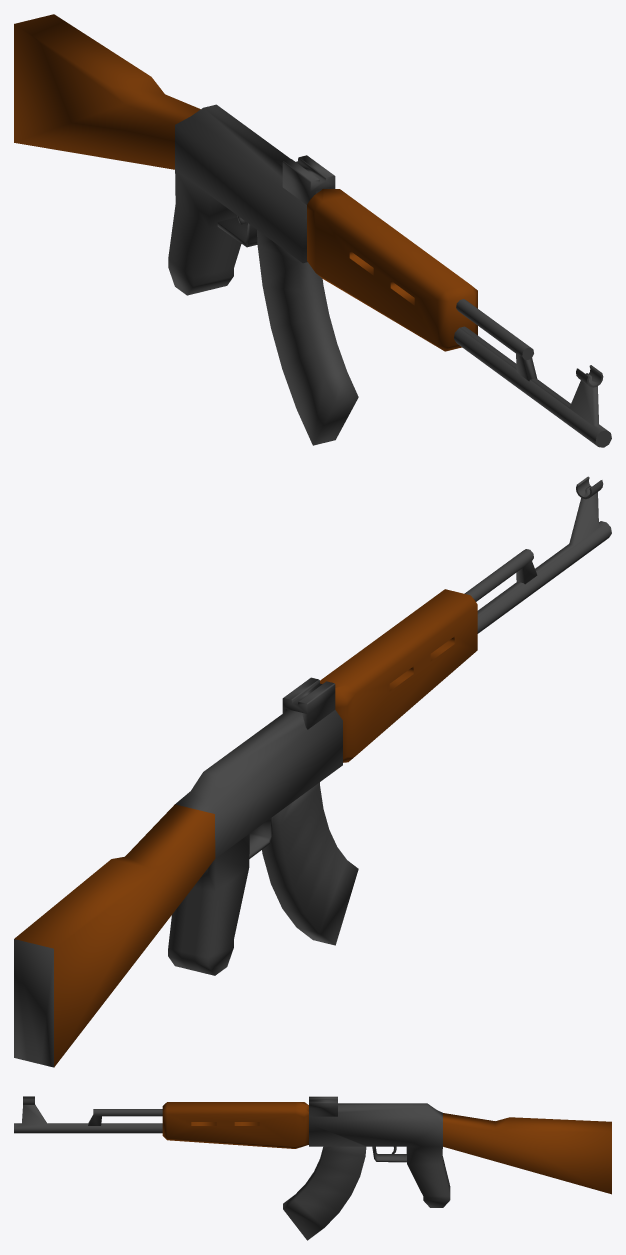
The picture shows the model from 3 angles, top to bottom: view 1: azimuth 30°, elevation 25°; view 2: azimuth 150°, elevation 25°; view 3: azimuth 270°, elevation 25°; orthographic projection. The views are drawn at different scales.
Parts seen in each view (by area): view 1: AK47, Magazin; view 2: AK47, Magazin; view 3: AK47, Magazin.
Boxes of the visible parts, x1,y1,x2,y2 form: AK47: [14, 14, 611, 447]; Magazin: [257, 230, 358, 445]; AK47: [14, 476, 611, 1067]; Magazin: [262, 782, 358, 945]; AK47: [14, 1096, 611, 1207]; Magazin: [283, 1146, 366, 1240].
Size of the model in its own units: 109 by 693 by 2686.
